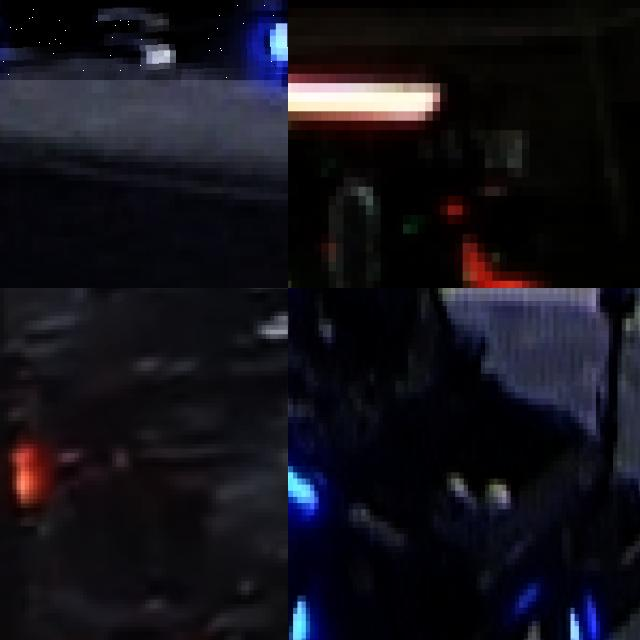B1: (487, 595, 589, 640)
B3: (0, 0, 288, 80)
